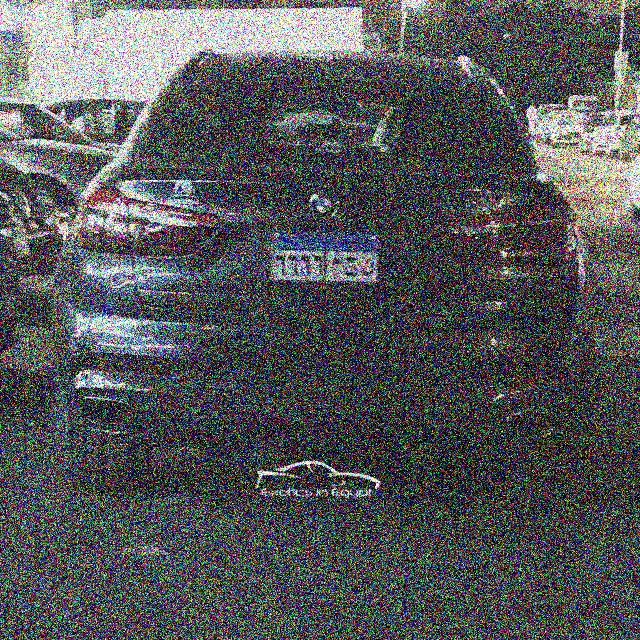License Plate: (265, 227, 384, 287)
